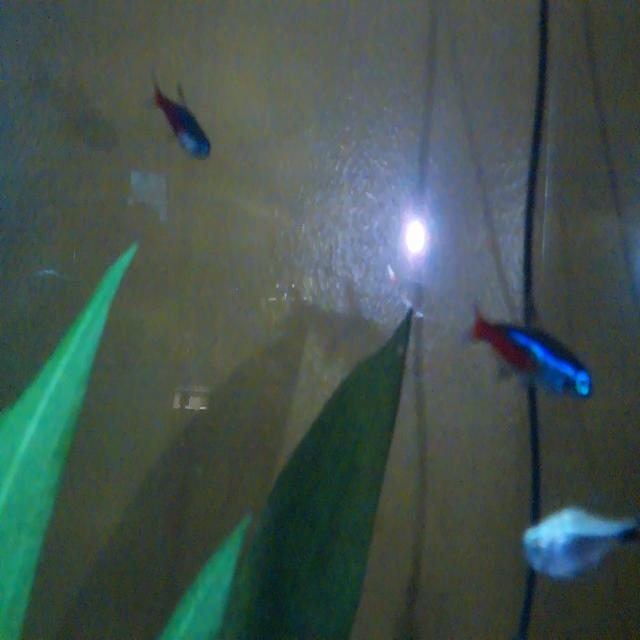fish: (465, 296, 597, 412), (507, 480, 640, 580), (139, 60, 220, 172)
